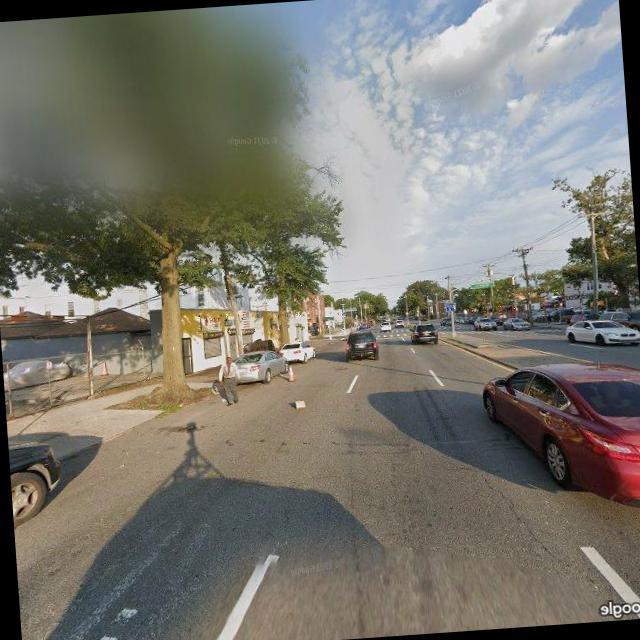pothole: (477, 463, 562, 566)
